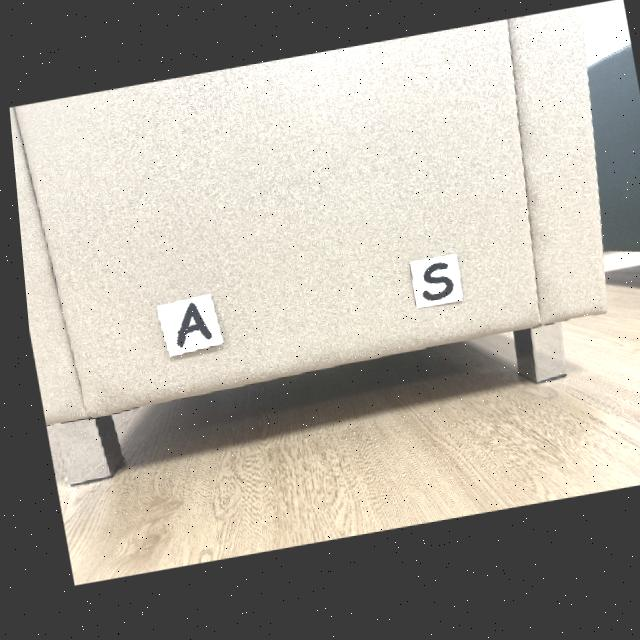A: (170, 306, 206, 349)
S: (416, 270, 448, 307)
